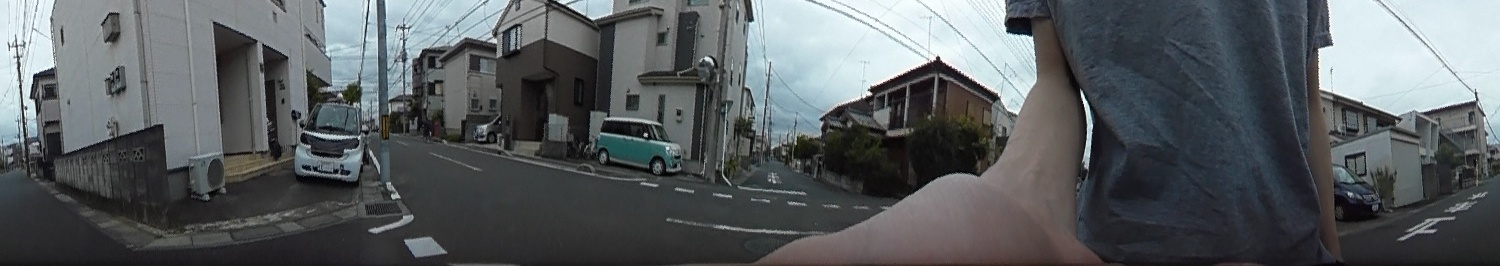difficult_person: (422, 117, 434, 142)
